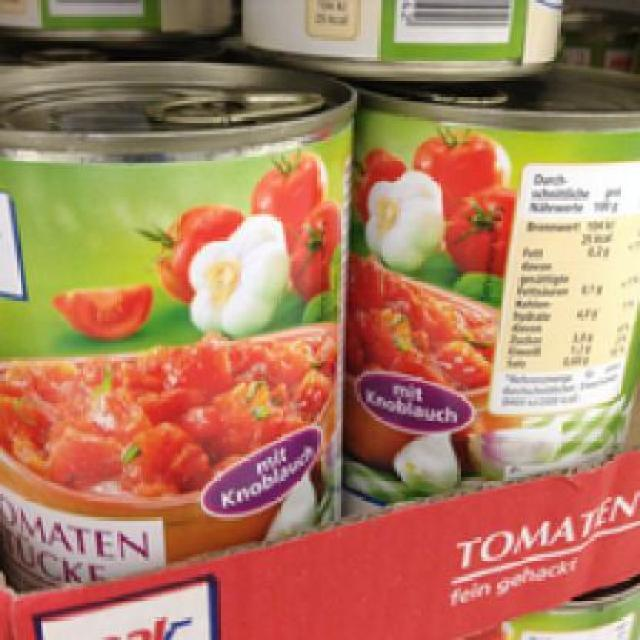Tomato Sauce: (0, 51, 349, 584), (352, 71, 628, 498)
